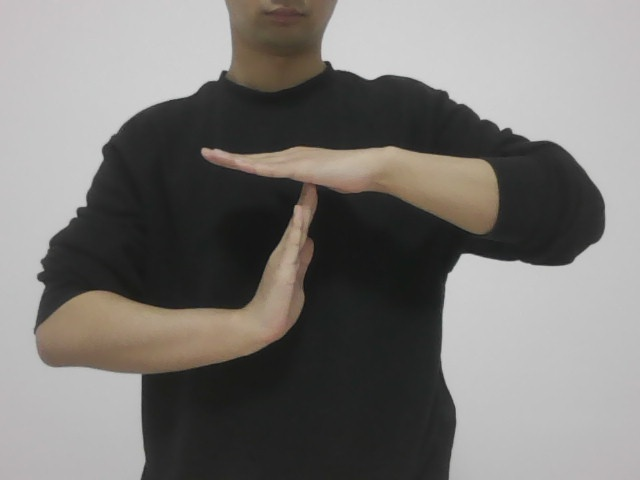stop: (180, 139, 398, 376)
